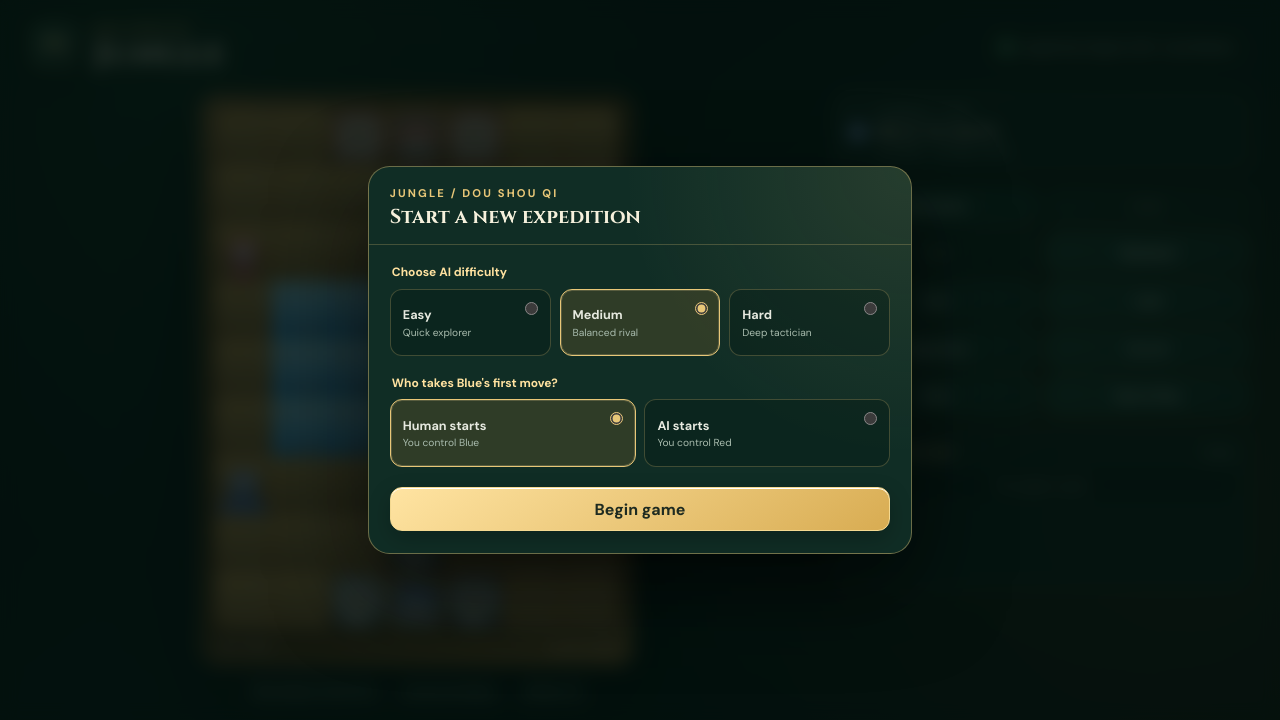
App runtime states and preferences › keeps the start dialog usable after a recoverable command error
Expected: the dialog "Start a new expedition" is shown, [368,166,912,554]
Click the button "Begin game". click: x=640, y=509
box: [390,487,890,531]
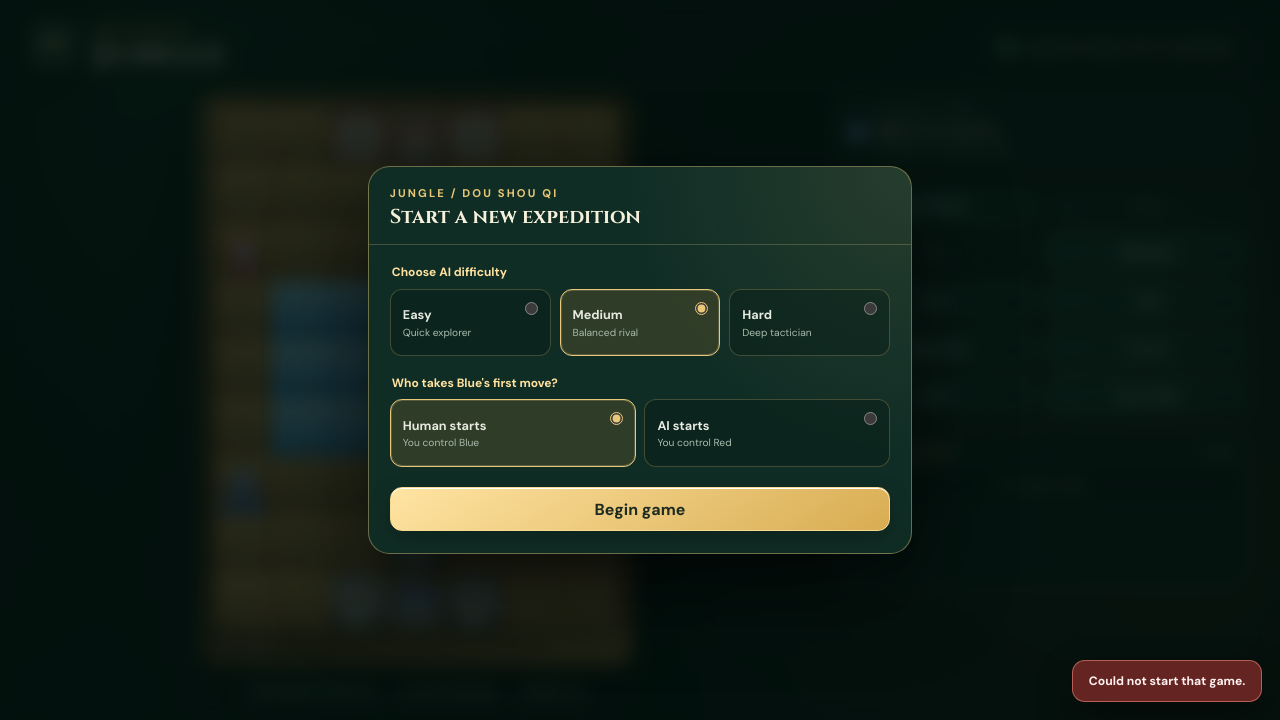
Result: the message reads "Could not start that game." at [1089,673,1245,689]
